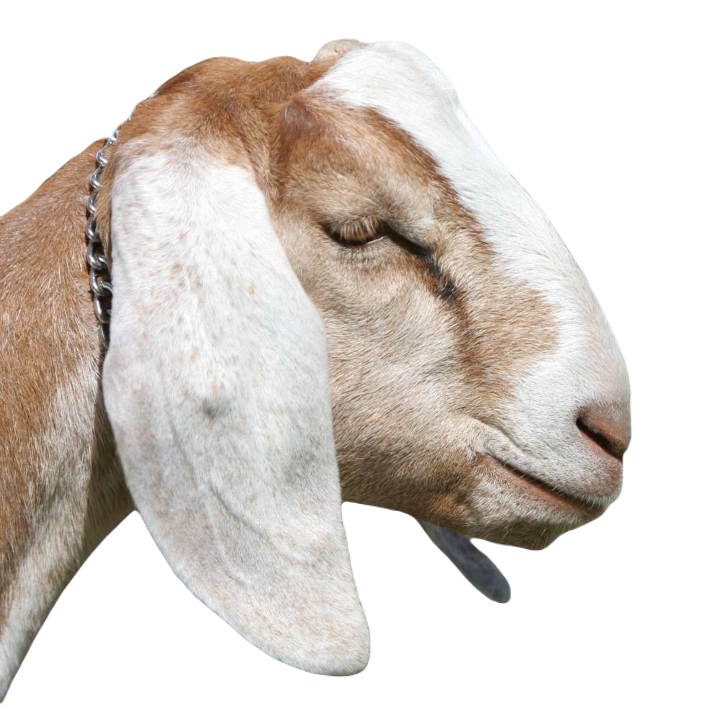Goat: (1, 35, 634, 701)
